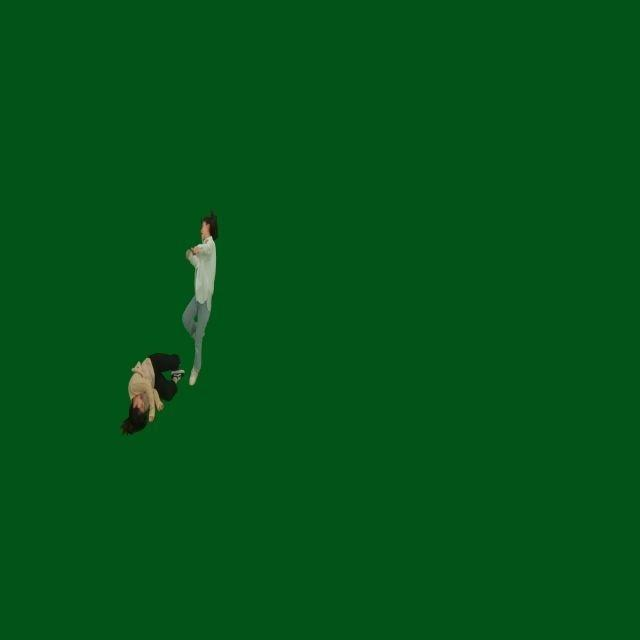fight: (118, 211, 217, 435)
